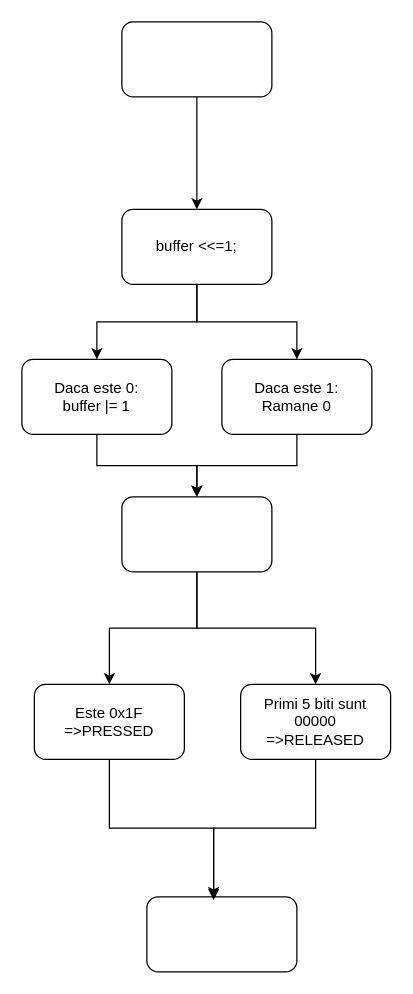
Image size: 413x994. Some labels were removed from this diagram. The box of each missing label's shape, as (x1, y1, x2, y2) in pixels:
Buffer valoare: (121, 496, 272, 572)
Debounce ready pentru button: (146, 896, 297, 972)
task10ms() readButton: (121, 21, 272, 97)
